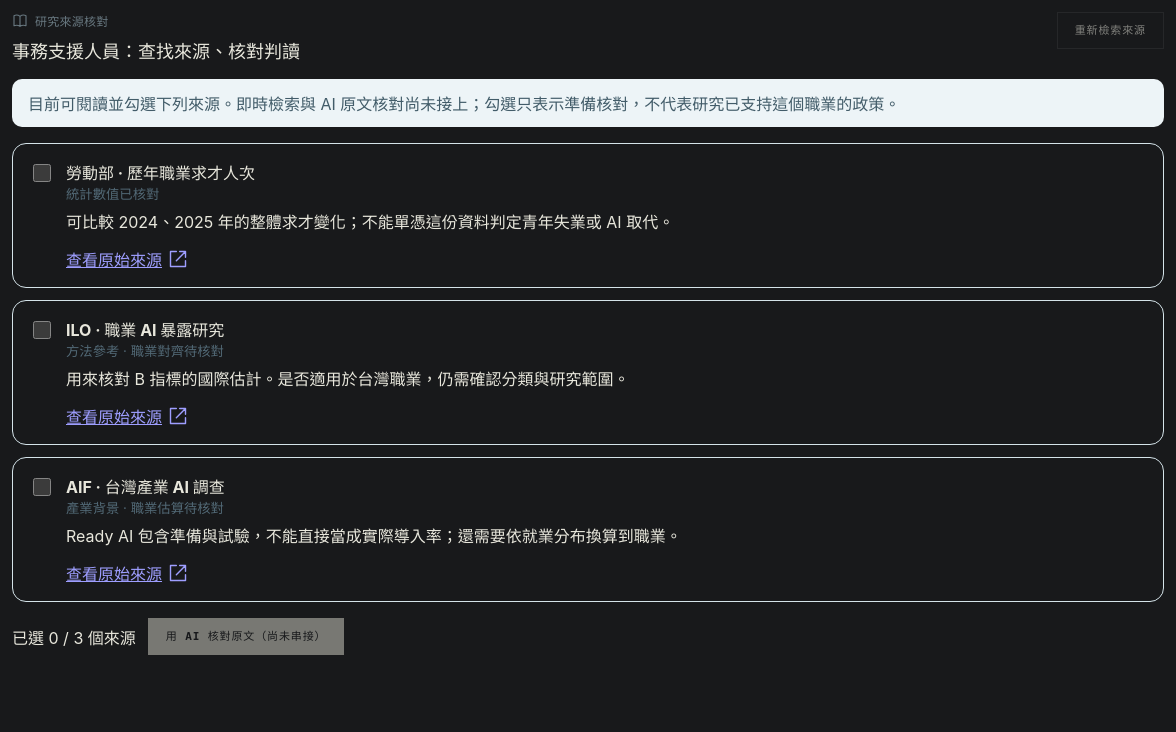
it: 論證來源可勾選，但不冒充完成 AI 核對
Click the checkbox labelled "ILO · 職業 AI 暴露研究" at (42, 330), box [33,321,51,339]
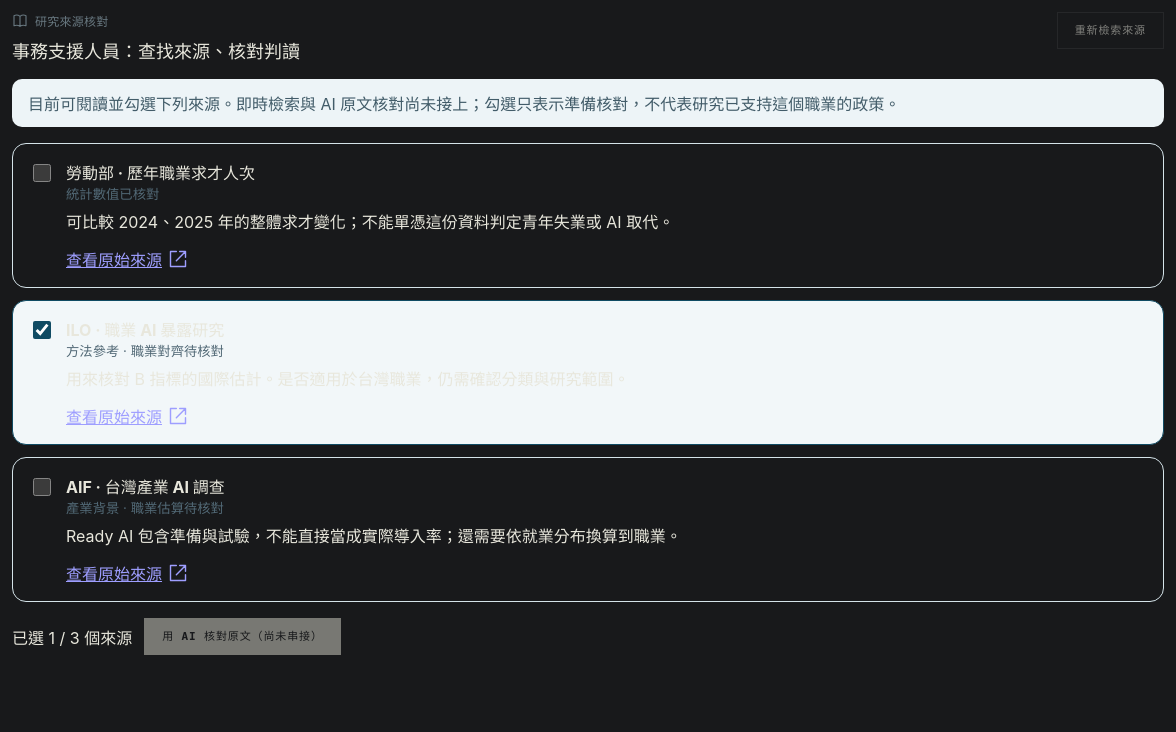
Expected: the button "重新檢索來源" is disabled, [1057,12,1164,49]
Now the text "已選 1 / 3 個來源" is shown, box [12,624,132,648]
